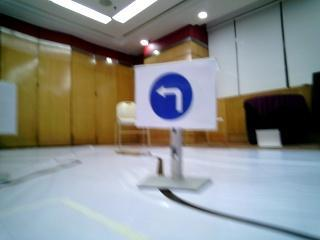left: (133, 71, 204, 123)
